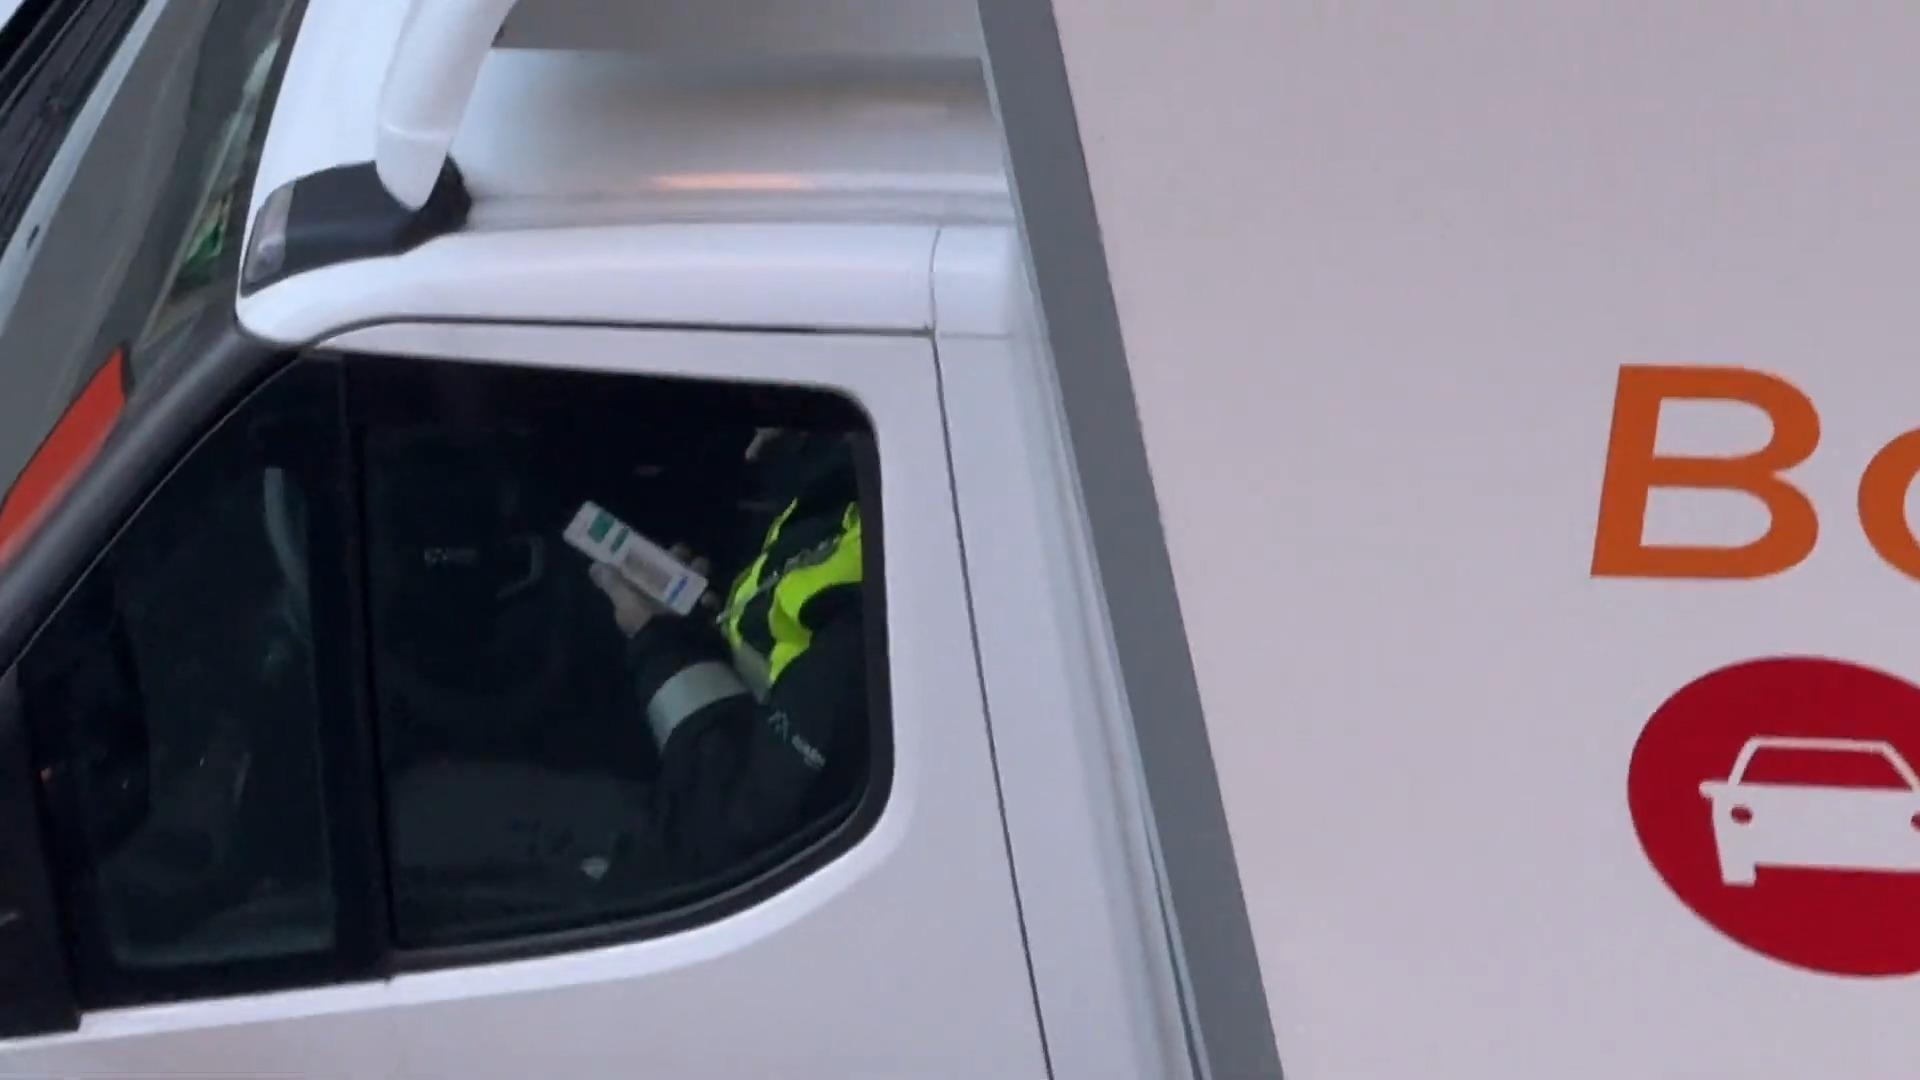parking-attendant: (591, 429, 868, 880)
